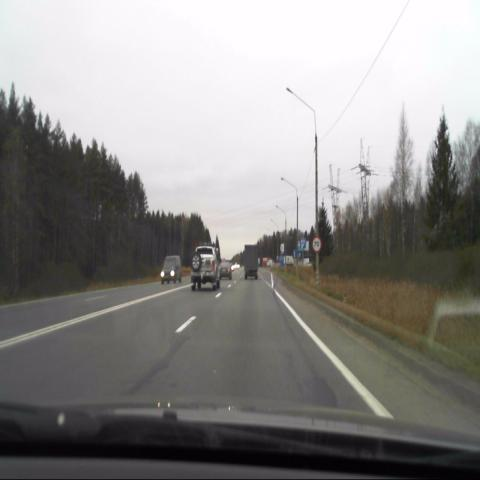3_24: (313, 237, 320, 251)
